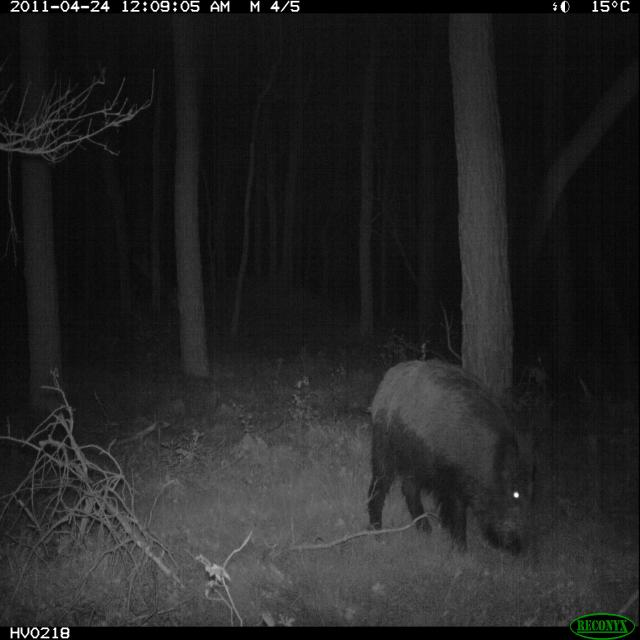boar: (350, 338, 553, 578)
